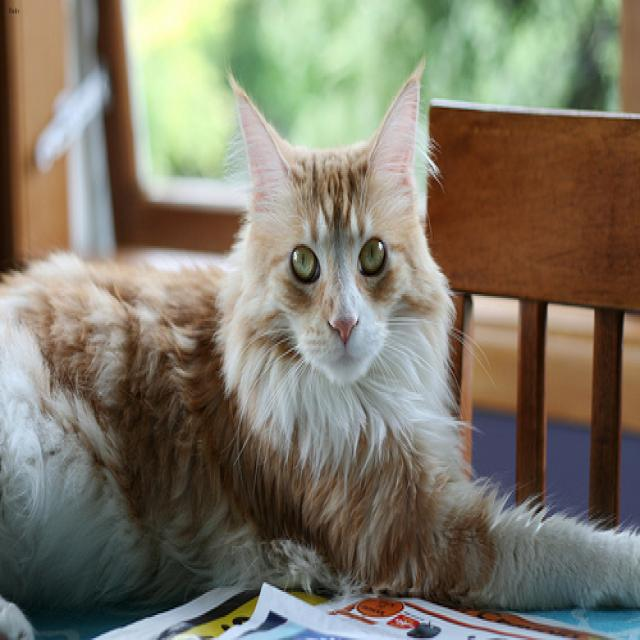cat: (225, 65, 421, 382)
